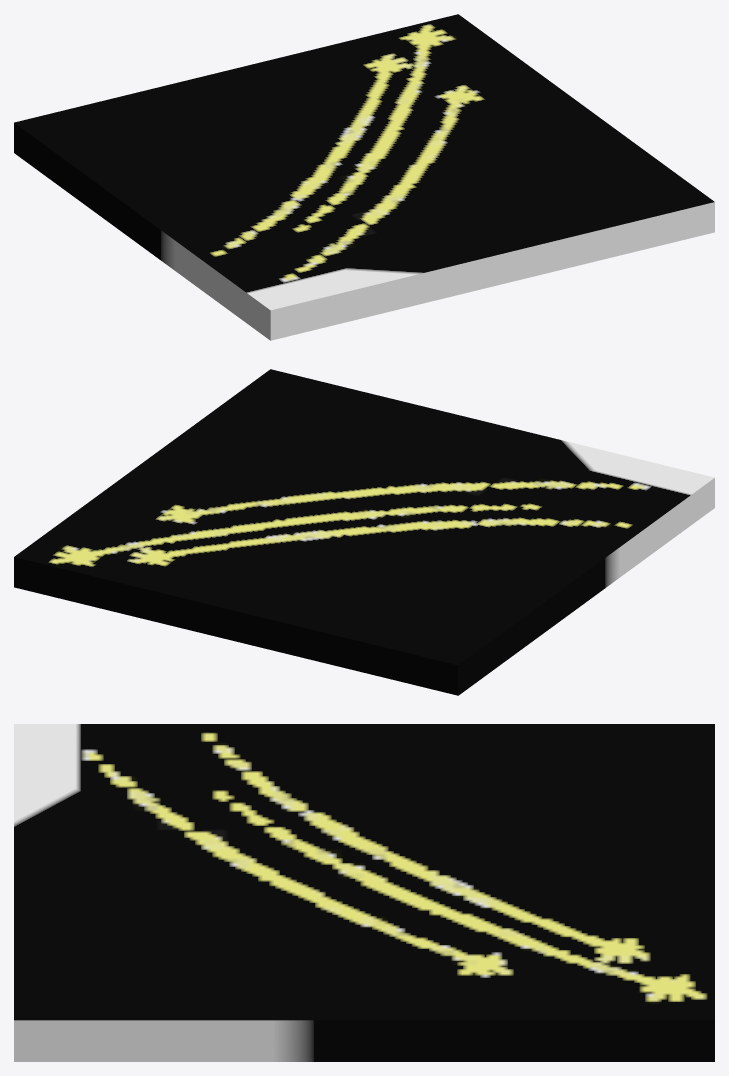
The model's file is CharSkyKid_Prop_MoonlightMural_Star03.glb.
3 views of the same model, one above another, from view 1: azimuth 30°, elevation 25°; view 2: azimuth 150°, elevation 25°; view 3: azimuth 270°, elevation 25° (orthographic). The views are drawn at different scales.
Visible parts, largest first — view 1: CharSkyKid_Prop_MoonlightMural_Star03; view 2: CharSkyKid_Prop_MoonlightMural_Star03; view 3: CharSkyKid_Prop_MoonlightMural_Star03.
Part boxes in pixels (x1,y1,x2,y2): CharSkyKid_Prop_MoonlightMural_Star03: (14,14,714,340); CharSkyKid_Prop_MoonlightMural_Star03: (14,369,714,695); CharSkyKid_Prop_MoonlightMural_Star03: (14,724,714,1061).
Size of the model in its own units: 1 by 0.0654 by 1.
1 material, 1 textured.
